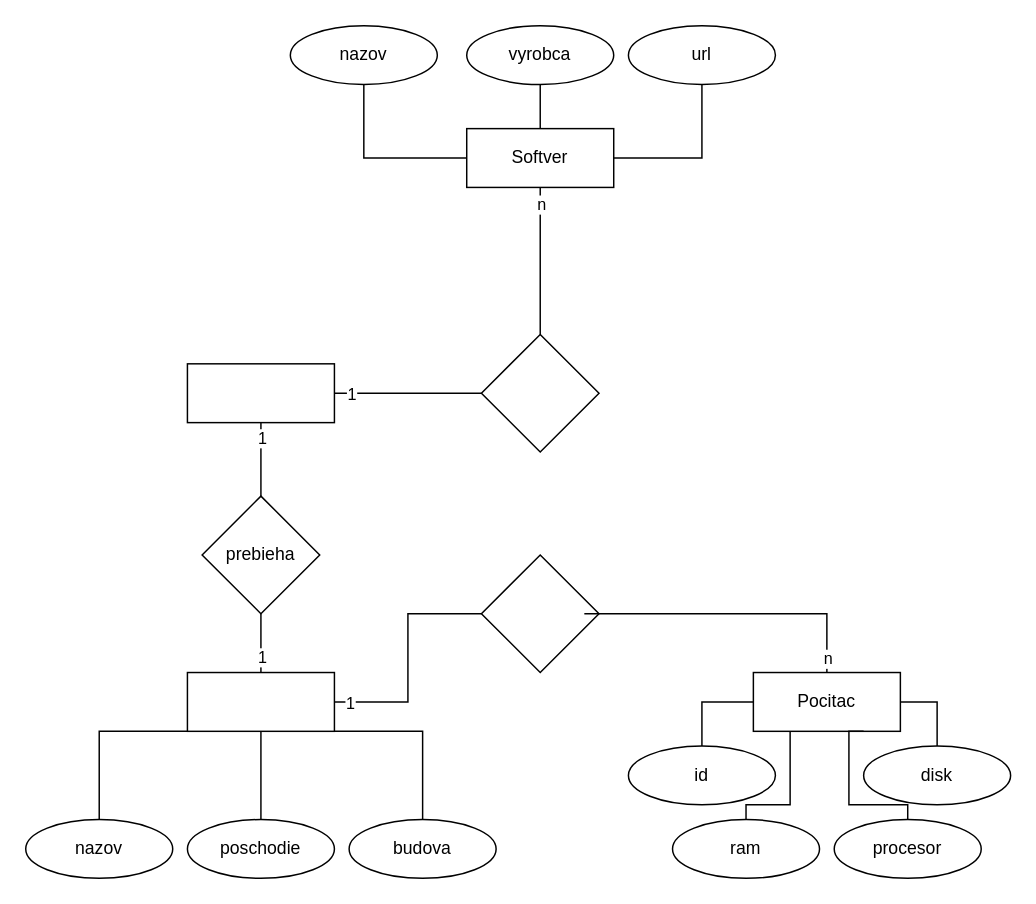
The diagram is 1036 pixels wide and 904 high, and some of its shapes have lost their labels. Here are the shapes that lost their labels. From the top down, the centre of each, then its label:
the point at 260,392: Instalacia
the point at 539,392: patri
the point at 539,613: umiestneny
the point at 260,701: Ucebna
